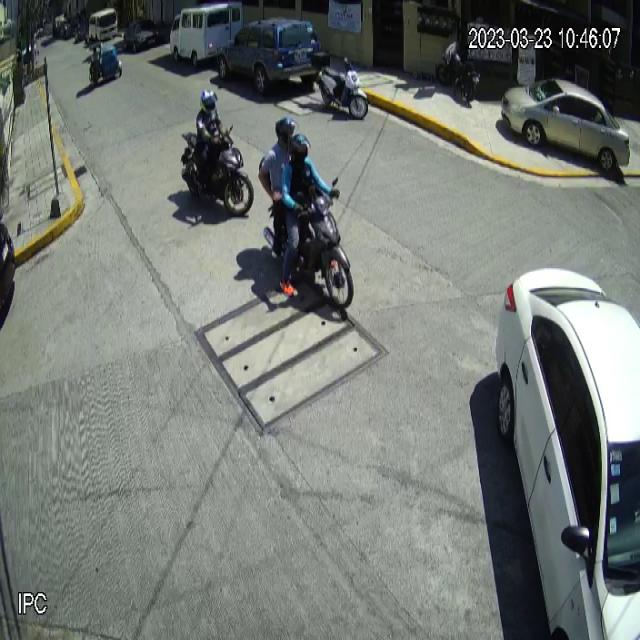Car: (495, 267, 640, 640), (501, 78, 630, 171), (216, 16, 323, 96)
Motorcycle: (263, 173, 357, 310), (180, 126, 254, 218), (312, 54, 368, 120)
Tricycle: (86, 38, 123, 90)
Van: (169, 0, 242, 69)
